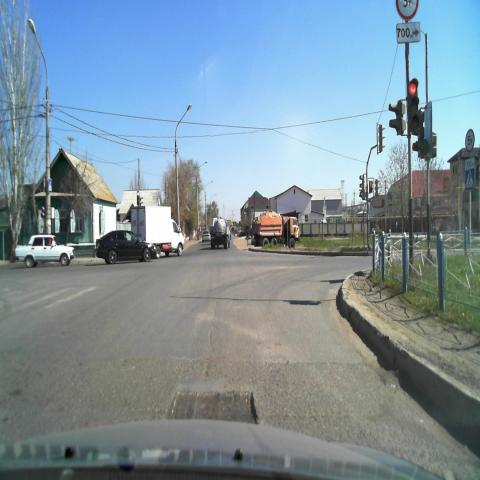3_11: (464, 128, 474, 153)
5_19_1: (464, 169, 475, 191)
